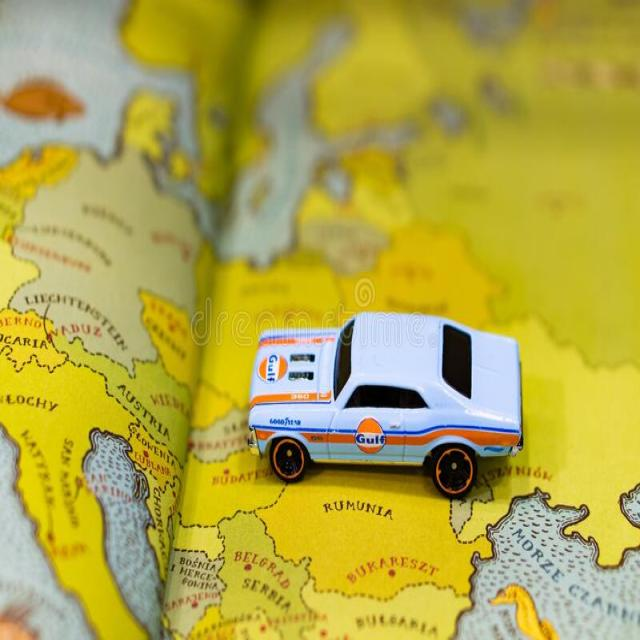Car: (246, 309, 524, 498)
